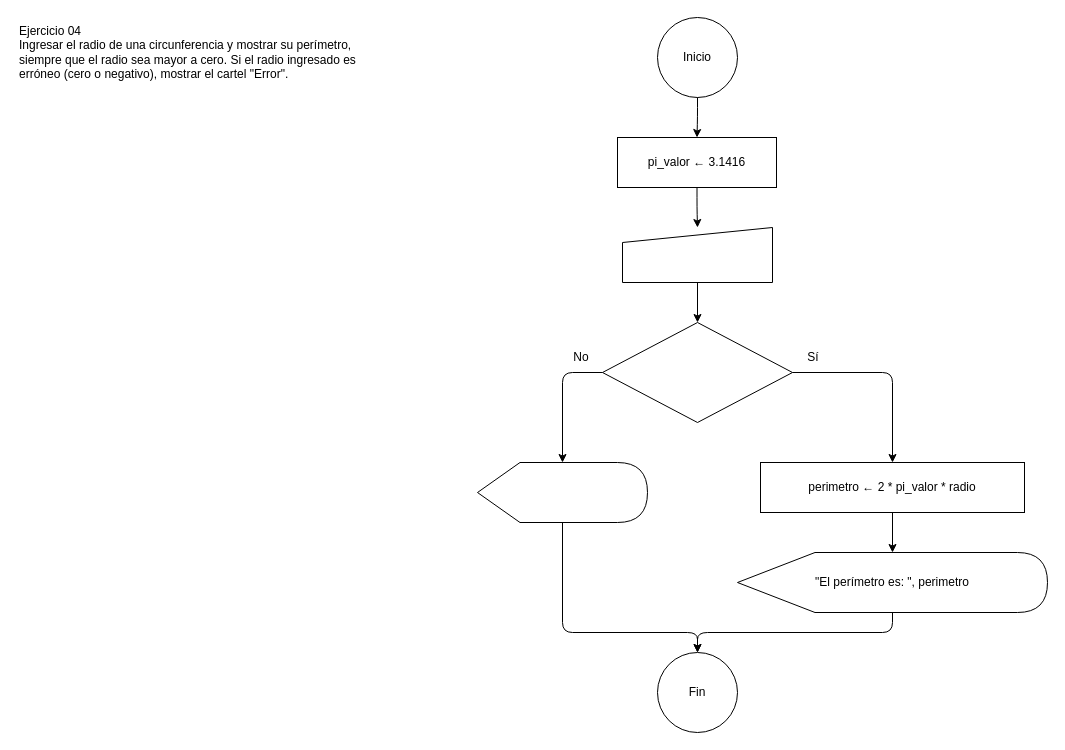
Some shapes in this 1065 by 750 pixel diagram are drawn without their labels. Each missing label, with the centre of its shape:
"Error": (x=562, y=492)
radio: (x=697, y=254)
radio > 0: (x=697, y=372)
